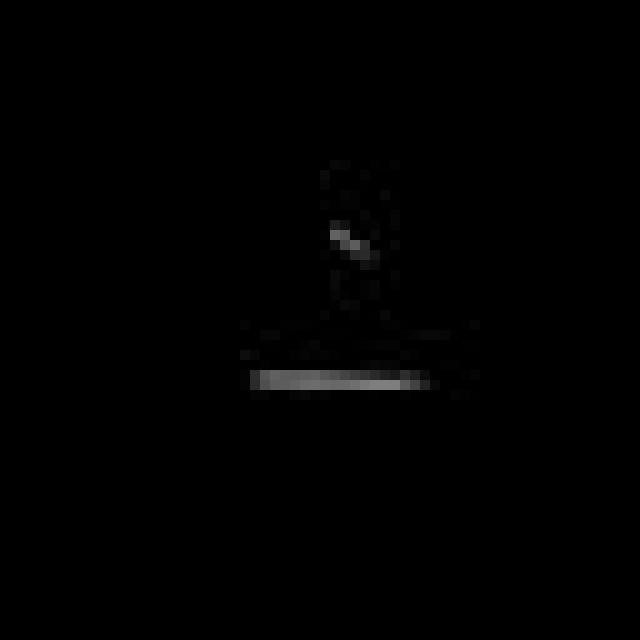2 -two-: (238, 206, 432, 423)
